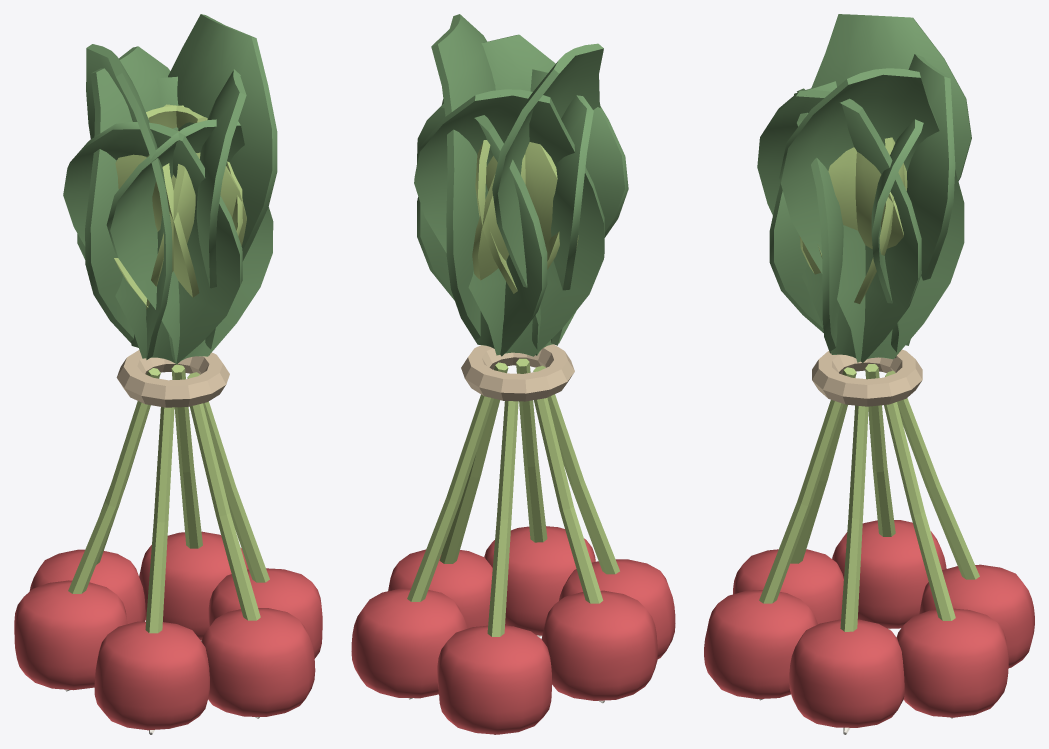
File: fresh-produce-and-groceries-radish-bunch-58380e39__24355.glb
The picture shows the model from 3 angles, left to right: view 1: azimuth 30°, elevation 25°; view 2: azimuth 150°, elevation 25°; view 3: azimuth 270°, elevation 25°; orthographic projection.
Parts seen in each view (by area): view 1: radish-bunch; view 2: radish-bunch; view 3: radish-bunch.
Boxes of the visible parts, x1,y1,x2,y2 form: radish-bunch: [14, 14, 322, 734]; radish-bunch: [351, 14, 675, 734]; radish-bunch: [704, 14, 1034, 734].
Bounding box in the file's own units: 0.1026 × 0.2331 × 0.108.
